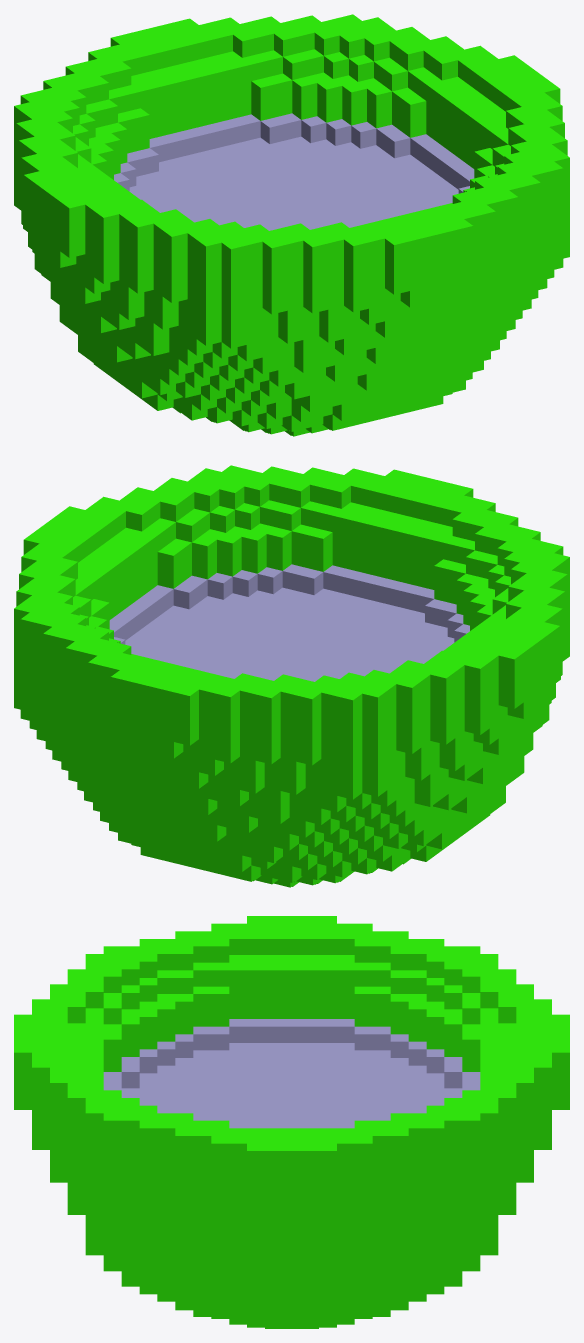
Rendered from DownBody.obj.
3 views of the same model, one above another, from view 1: azimuth 30°, elevation 25°; view 2: azimuth 150°, elevation 25°; view 3: azimuth 270°, elevation 25° (orthographic).
Bounding box in the file's own units: 31 × 17 × 31.
1 material, 1 textured.
